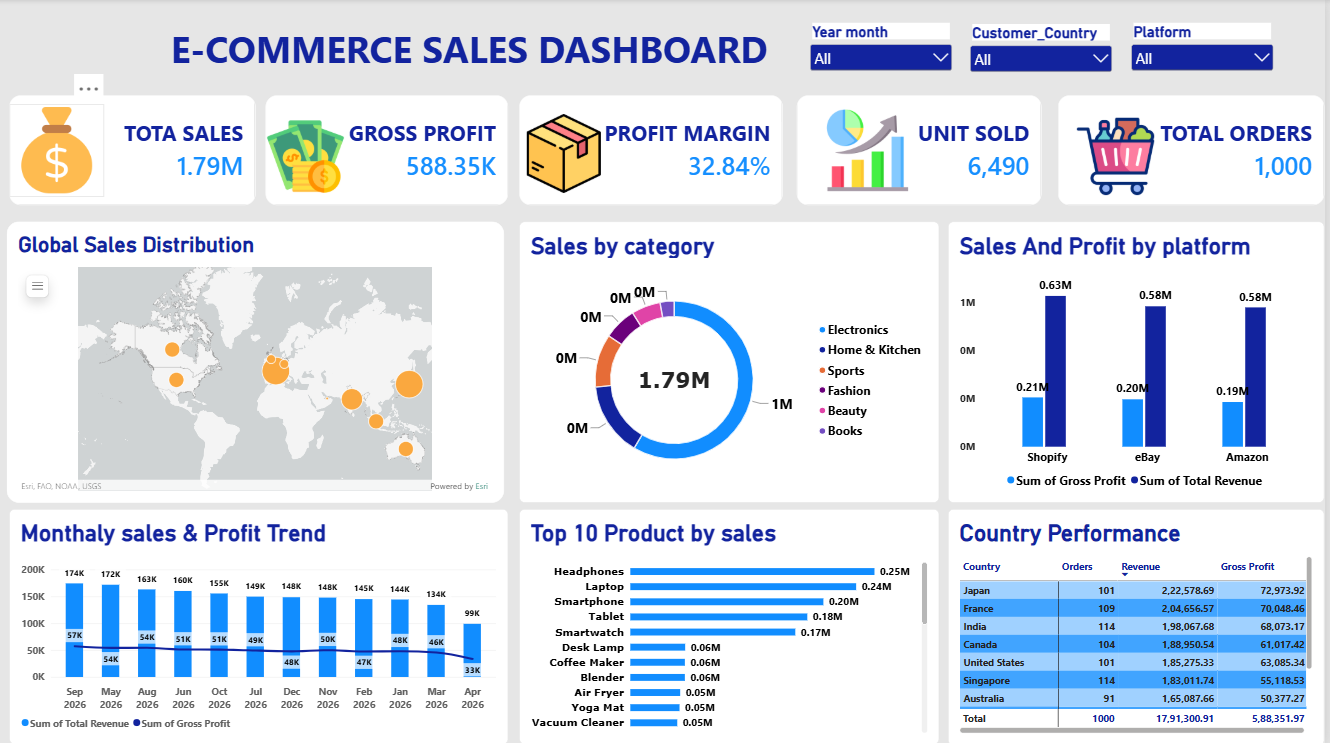

The dashboard page shown, as its layout file describes it:
{"tool":"powerbi","page":{"name":"Page 1","canvas":[1920,1080],"ordinal":0},"visuals":[{"type":"textbox","box":[34.4,34.4,1886,100],"z":0},{"type":"cardVisual","fields":{"Data":["Ecom_Sales_Data.Total sales"]},"box":[16.3,139.3,356.5,159.3],"z":1000},{"type":"cardVisual","fields":{"Data":["Ecom_Sales_Data.Gross Profit KPI"]},"box":[387.3,139.3,351.1,159.3],"z":2000},{"type":"cardVisual","fields":{"Data":["Ecom_Sales_Data.Profit Margin %"]},"box":[754.6,139.3,381.8,159.3],"z":3000},{"type":"cardVisual","fields":{"Data":["Calendar.Unit sold Display"]},"box":[1156.4,139.3,354.7,159.3],"z":4000},{"type":"cardVisual","fields":{"Data":["Calendar.TOTAL ORDERS DISPLAY"]},"box":[1534.6,139.3,385.5,159.3],"z":5000},{"type":"image","box":[16.3,152,137.5,133.9],"z":6000},{"type":"image","box":[372.8,170.1,144.8,115.8],"z":7000},{"type":"image","box":[754.6,166.5,128.5,114],"z":8000},{"type":"image","box":[1170.9,157.4,175.5,123.1],"z":9000},{"type":"image","box":[1549.1,171.9,137.5,112.2],"z":10000},{"type":"donutChart","title":"Sales by category","fields":{"Category":["Ecom_Sales_Data.Product_Category"],"Y":["Sum(Ecom_Sales_Data.Total Revenue)"]},"box":[754.6,322.1,608,407.2],"z":11000},{"type":"clusteredColumnChart","title":"Sales And Profit by platform","fields":{"Category":["Ecom_Sales_Data.Platform"],"Y":["Sum(Ecom_Sales_Data.Gross Profit)","Sum(Ecom_Sales_Data.Total Revenue)"]},"box":[1375.3,322.1,544.7,407.2],"z":12000},{"type":"lineStackedColumnComboChart","title":"Monthaly sales & Profit Trend","fields":{"Category":["Calendar.Year month"],"Y":["Sum(Ecom_Sales_Data.Total Revenue)"],"Y2":["Sum(Ecom_Sales_Data.Gross Profit)"]},"box":[16,739,722,341],"z":13000},{"type":"clusteredBarChart","title":"Top 10 Product by sales","fields":{"Category":["Ecom_Sales_Data.Product_Name"],"Y":["Sum(Ecom_Sales_Data.Total Revenue)"]},"box":[755,739,608,341],"z":14000},{"type":"pivotTable","title":"Country Performance","fields":{"Rows":["Ecom_Sales_Data.Customer_Country"],"Values":["Ecom_Sales_Data.Total Orders","Sum(Ecom_Sales_Data.Total Revenue)","Sum(Ecom_Sales_Data.Gross Profit)"]},"box":[1375.3,738.3,544.7,342],"z":15000},{"type":"slicer","fields":{"Values":["Calendar.Year month"]},"box":[1170.9,34.4,215.3,83.2],"z":16000},{"type":"slicer","fields":{"Values":["Ecom_Sales_Data.Customer_Country"]},"box":[1402.5,36.2,215.3,85.1],"z":17000},{"type":"slicer","fields":{"Values":["Ecom_Sales_Data.Platform"]},"box":[1635.9,34.4,215.3,85.1],"z":18000},{"type":"esriVisual","title":"Global Sales Distribution","fields":{"Location":["Ecom_Sales_Data.Customer_Country"],"Size":["Sum(Ecom_Sales_Data.Total Revenue)"]},"box":[13.3,322,719.7,407.2],"z":19000}]}

Visuals, with their boxes in screenshot pixels (x1, y1, x2, y2), scaled from the page's 1920x1080 canvas onto the 1330x743 screenshot:
textbox: (24, 24, 1329, 92)
cardVisual - Ecom_Sales_Data.Total sales: (11, 96, 258, 205)
cardVisual - Ecom_Sales_Data.Gross Profit KPI: (268, 96, 511, 205)
cardVisual - Ecom_Sales_Data.Profit Margin %: (523, 96, 787, 205)
cardVisual - Calendar.Unit sold Display: (801, 96, 1047, 205)
cardVisual - Calendar.TOTAL ORDERS DISPLAY: (1063, 96, 1329, 205)
image: (11, 105, 107, 197)
image: (258, 117, 359, 197)
image: (523, 115, 612, 193)
image: (811, 108, 933, 193)
image: (1073, 118, 1168, 195)
"Sales by category" donutChart: (523, 222, 944, 502)
"Sales And Profit by platform" clusteredColumnChart: (953, 222, 1329, 502)
"Monthaly sales & Profit Trend" lineStackedColumnComboChart: (11, 508, 511, 742)
"Top 10 Product by sales" clusteredBarChart: (523, 508, 944, 742)
"Country Performance" pivotTable: (953, 508, 1329, 742)
slicer - Calendar.Year month: (811, 24, 960, 81)
slicer - Ecom_Sales_Data.Customer_Country: (972, 25, 1121, 83)
slicer - Ecom_Sales_Data.Platform: (1133, 24, 1282, 82)
"Global Sales Distribution" esriVisual: (9, 222, 508, 502)
